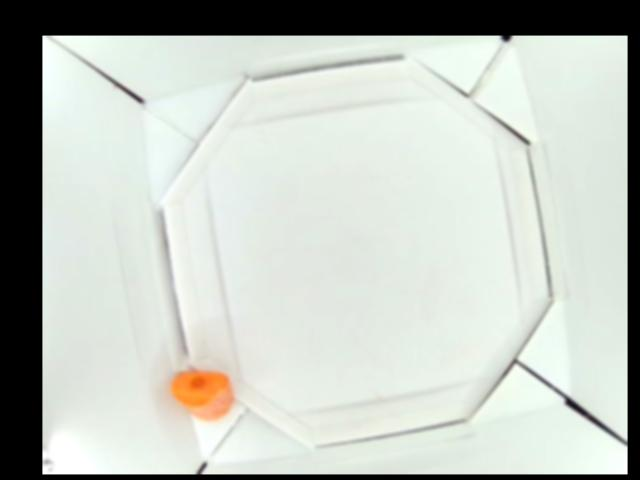Carrot: (173, 369, 234, 419)
